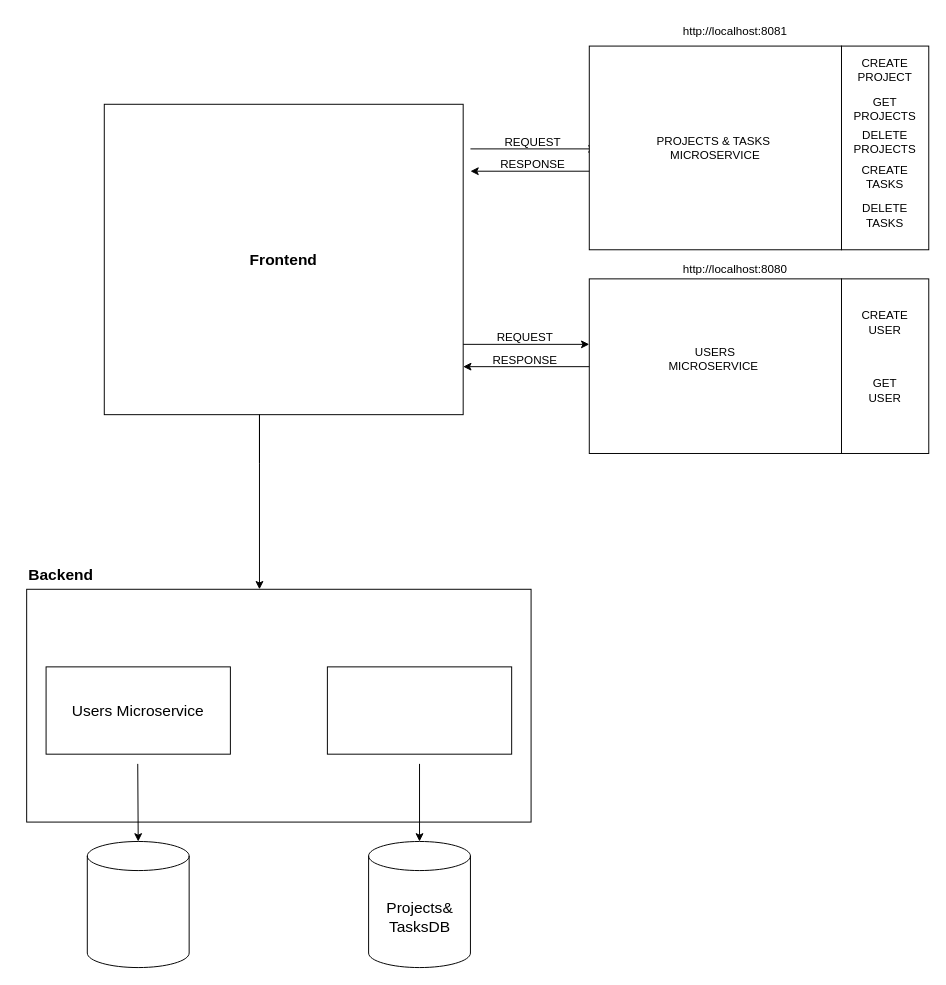
The diagram is 946 pixels wide and 985 high, and some of its shapes have lost their labels. Each missing label, with the box of its shape:
Projects and Tasks Microservice: (326, 666, 512, 754)
UsersDB: (86, 841, 189, 968)
